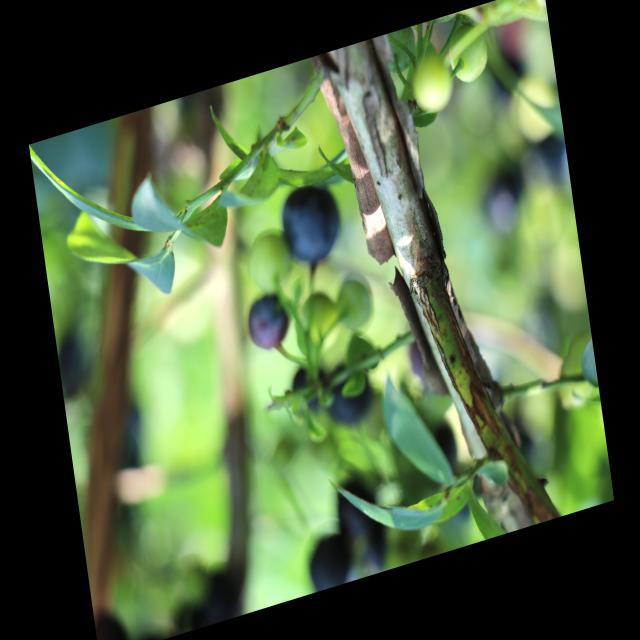blueberry: (273, 179, 345, 278), (323, 365, 378, 440), (242, 288, 296, 360), (334, 472, 386, 542), (478, 166, 528, 234), (305, 533, 356, 594), (290, 364, 332, 424)
blueberry-unripe: (247, 225, 296, 295), (408, 50, 454, 119), (447, 22, 493, 88), (334, 271, 374, 337), (299, 292, 342, 352)
